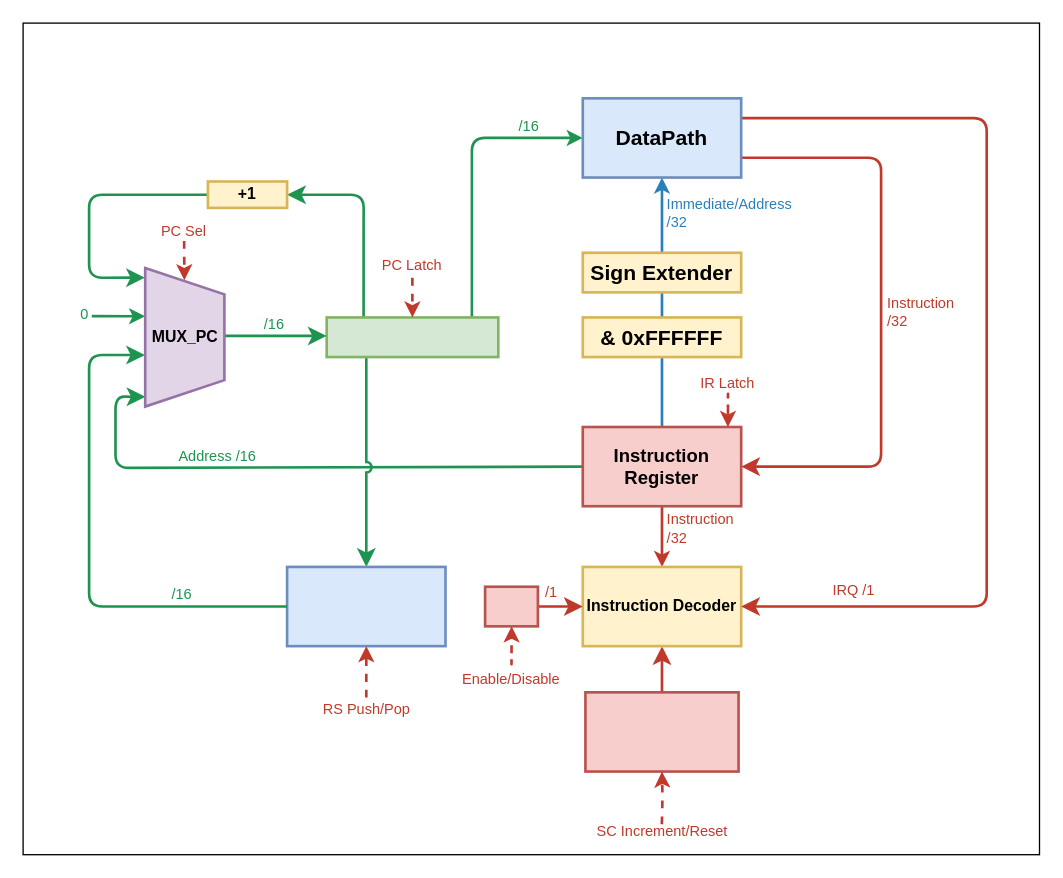
This 1063x878 diagram has some shape labels left out. Each missing label, with the centre of its shape:
"EI" belongs at point (511, 606).
"Program Counter" belongs at point (412, 336).
"Return Stack" belongs at point (365, 606).
"Step Counter" belongs at point (661, 731).
